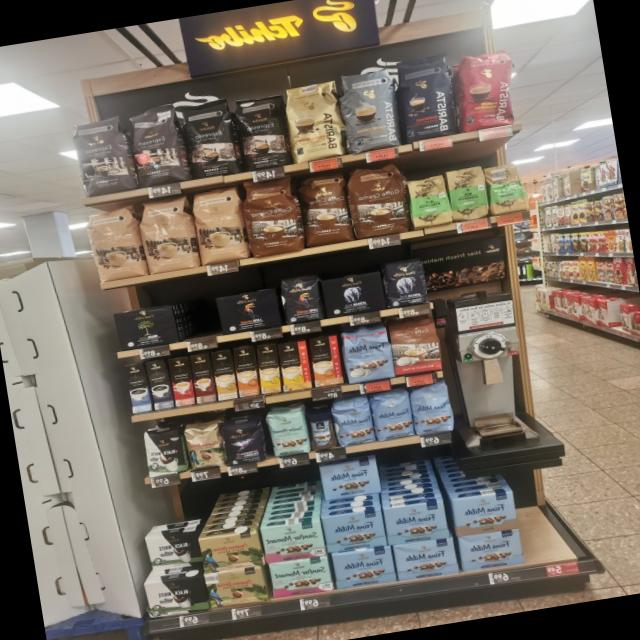AB Bohne: (382, 258, 430, 310)
AB Gemahlen: (320, 270, 388, 319)
Athiopien Bohne: (484, 162, 530, 216)
Athiopien Gemahlen: (445, 163, 491, 223), (405, 172, 452, 230)
BM Gemahlen: (112, 304, 180, 352)
BW Bohne: (140, 426, 188, 480)
BW Gemahlen: (142, 574, 208, 619), (142, 529, 203, 572)
Barista CB: (281, 78, 347, 165)
Barista CC: (336, 68, 403, 154)
Barista Espresso: (391, 52, 460, 144)
Barista Kolumbien: (449, 46, 522, 133)
C Fino Bohne: (219, 415, 269, 467)
CC Mild: (84, 202, 146, 283), (136, 194, 198, 275), (189, 186, 250, 266)
CC Vollmundig: (388, 316, 442, 378)
CC Vollmundig 36 Pads: (240, 175, 304, 258), (347, 160, 412, 240), (296, 170, 356, 248)
Colombia BB Bohne: (184, 421, 226, 472)
Colombia BB Gemahlen: (197, 528, 263, 575), (204, 564, 268, 610)
Empty Shelf: (174, 290, 218, 342)
Espresso Kraftig: (178, 96, 240, 180), (232, 93, 294, 172)
Espresso M Art: (126, 101, 188, 188), (72, 114, 136, 198)
FM 36 Pads: (340, 324, 396, 384)
FM Bohne: (409, 381, 456, 437), (370, 390, 416, 442), (331, 397, 376, 448)
FM Gemahlen: (451, 489, 520, 537), (382, 499, 450, 546), (392, 536, 460, 583), (458, 528, 526, 574), (320, 508, 388, 554), (331, 545, 396, 592), (319, 456, 382, 502)
FM Instant: (306, 408, 338, 452)
LG Bohne: (280, 274, 326, 326)
LG Gemahlen: (213, 288, 282, 334)
SM Bohne: (264, 408, 310, 457)
SM Gemahlen: (268, 554, 334, 600), (260, 519, 326, 564)
Simo CCMild: (278, 339, 314, 392)
Simo CCMild bigpack: (256, 343, 281, 394)
Simo CCVollmundig: (308, 334, 344, 386)
Simo CCVollmundig bigpack: (232, 346, 262, 397)
Simo Decaff: (211, 350, 238, 400)
Simo Es Brazil: (168, 356, 196, 408)
Simo Es Caramel: (190, 352, 217, 404)
Simo Es Kraft: (146, 358, 173, 411)
Simo Es Vanilla: (125, 362, 152, 414)
